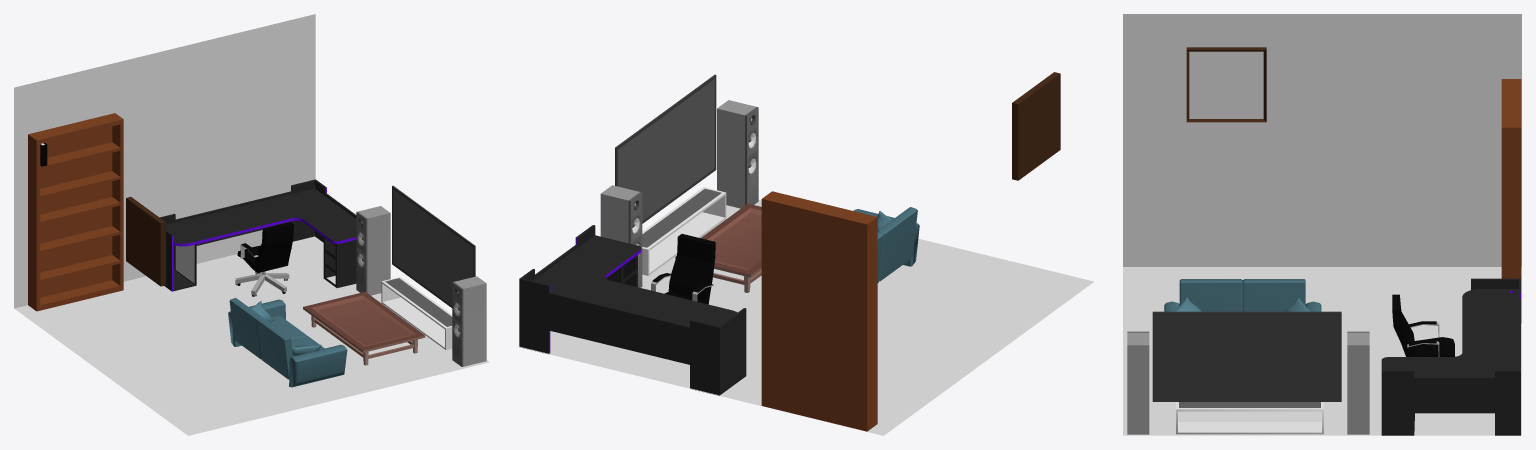
The model's file is room.glb.
The picture shows the model from 3 angles, left to right: view 1: azimuth 30°, elevation 25°; view 2: azimuth 150°, elevation 25°; view 3: azimuth 270°, elevation 25°; orthographic projection. The views are drawn at different scales.
Visible parts, largest first — view 1: Plane, BookShelfCore, tv_wall_001, Desk, sofa_001, coffee_table_001, Photo, Chair; view 2: Plane, BookShelfCore, Desk, tv_wall_001, Photo, coffee_table_001, Chair, sofa_001; view 3: Plane, tv_wall_001, Desk, Photo, sofa_001, BookShelfCore, Chair.
Boxes of the visible parts, x1,y1,x2,y2 form: Plane: [14, 14, 489, 435]; BookShelfCore: [28, 113, 123, 311]; tv_wall_001: [356, 185, 486, 366]; Desk: [159, 179, 356, 291]; sofa_001: [228, 298, 347, 387]; coffee_table_001: [303, 291, 425, 365]; Photo: [126, 197, 165, 286]; Chair: [235, 222, 293, 296]; Plane: [518, 200, 1093, 435]; BookShelfCore: [761, 191, 877, 431]; Desk: [519, 225, 746, 395]; tv_wall_001: [600, 74, 758, 287]; Photo: [1012, 72, 1060, 180]; coffee_table_001: [675, 203, 761, 292]; Chair: [651, 234, 715, 304]; sofa_001: [853, 207, 919, 282]; Plane: [1123, 14, 1521, 435]; tv_wall_001: [1127, 311, 1369, 434]; Desk: [1381, 278, 1520, 435]; Photo: [1186, 47, 1266, 122]; sofa_001: [1164, 279, 1321, 311]; BookShelfCore: [1501, 79, 1521, 322]; Chair: [1392, 294, 1454, 356].
Bounding box in the file's own units: 10 × 7.02 × 10.
9 materials, 1 textured.
